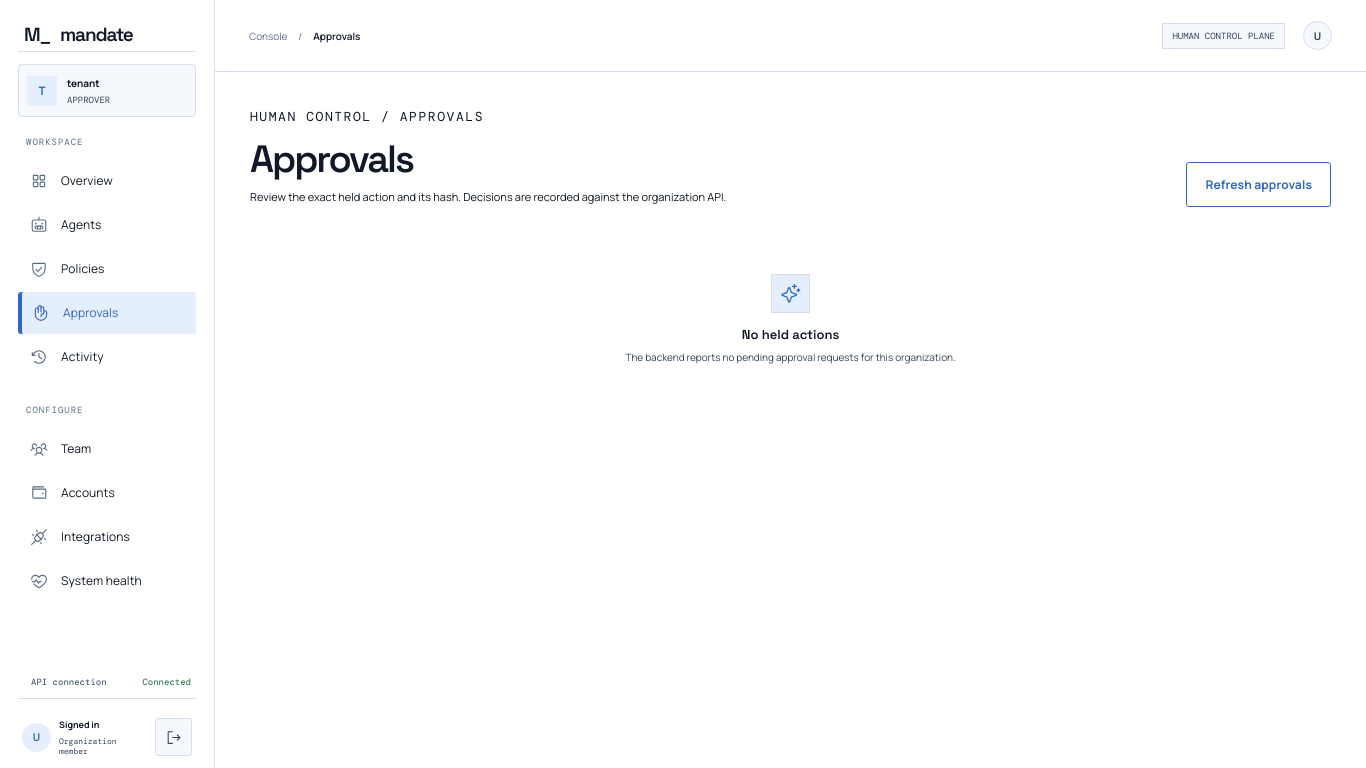
Test case: refreshes an empty approvals list to show a newly held authoritative action
The image size is (1366, 768).
Click the button "Refresh approvals": coordinates (1259, 184) [1186,162,1331,207]
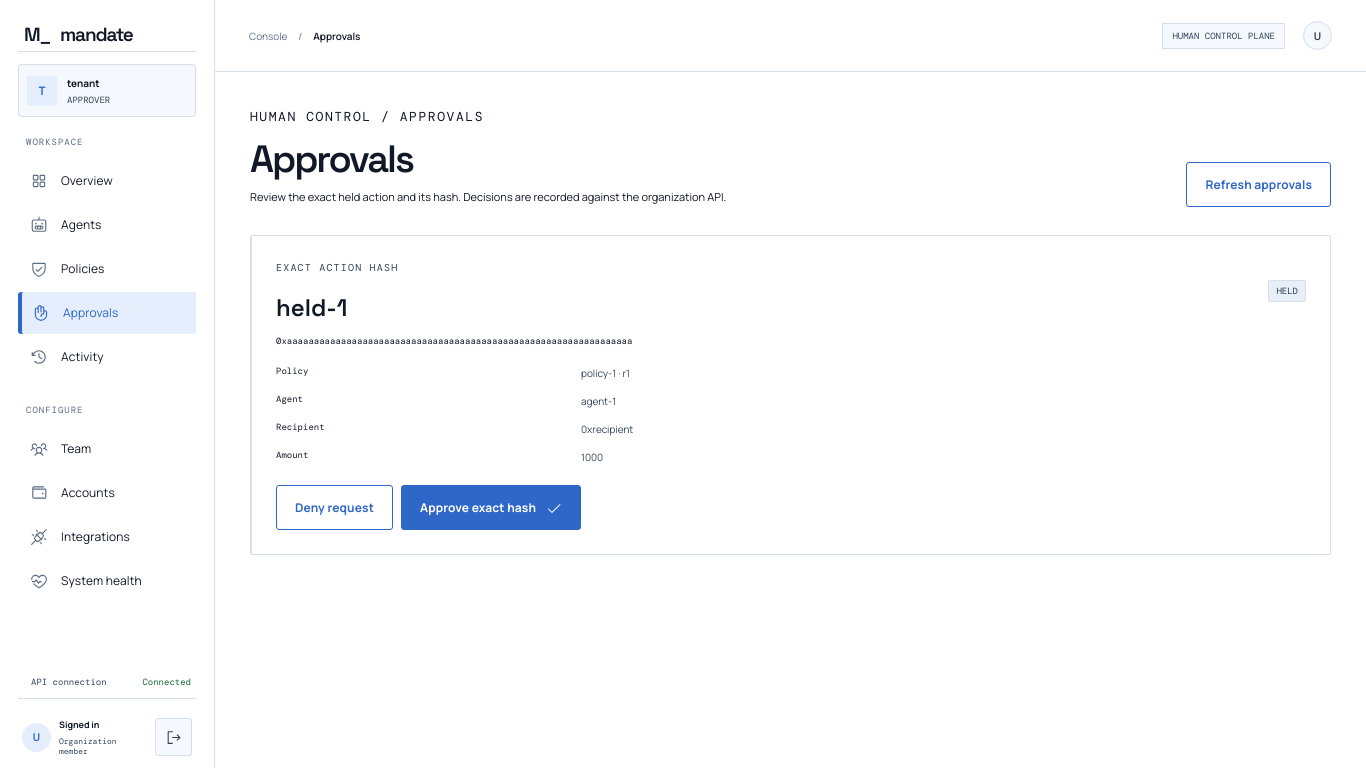
Now the text "held-1" is shown, box [276,292,348,323]
Now the text "No held actions" is gone
